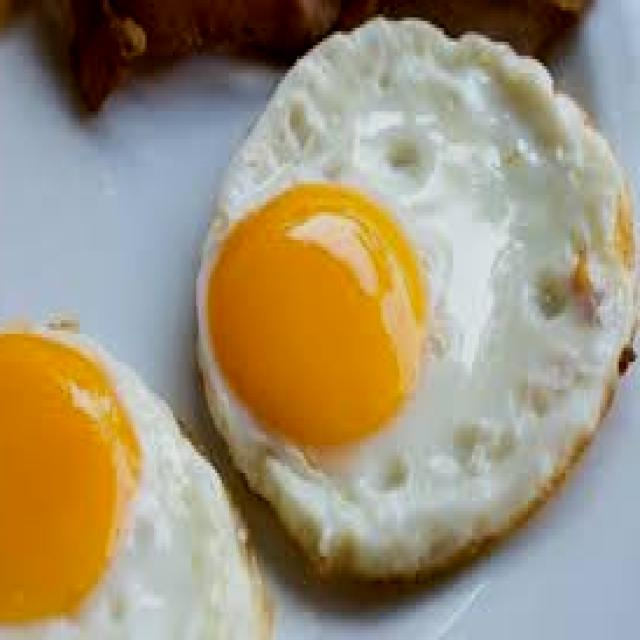telur ceplok: (194, 35, 635, 595), (0, 330, 276, 640)
